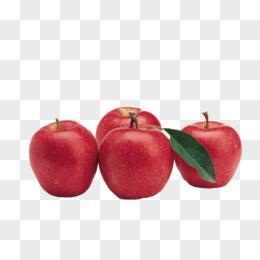apple: (98, 125, 173, 200), (28, 118, 98, 197), (173, 118, 242, 188), (96, 107, 164, 142)
